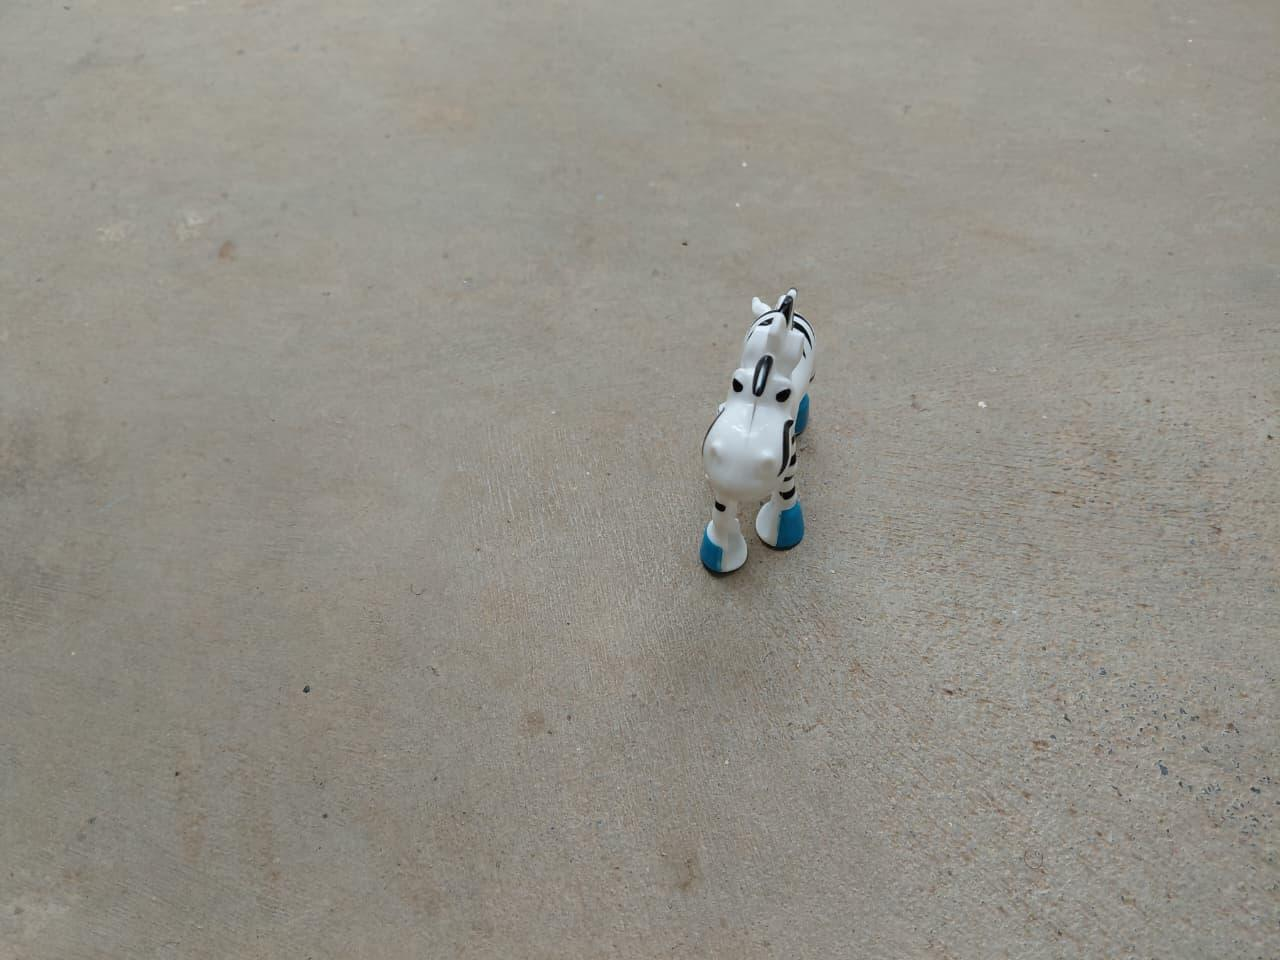zebra: (672, 274, 834, 580)
